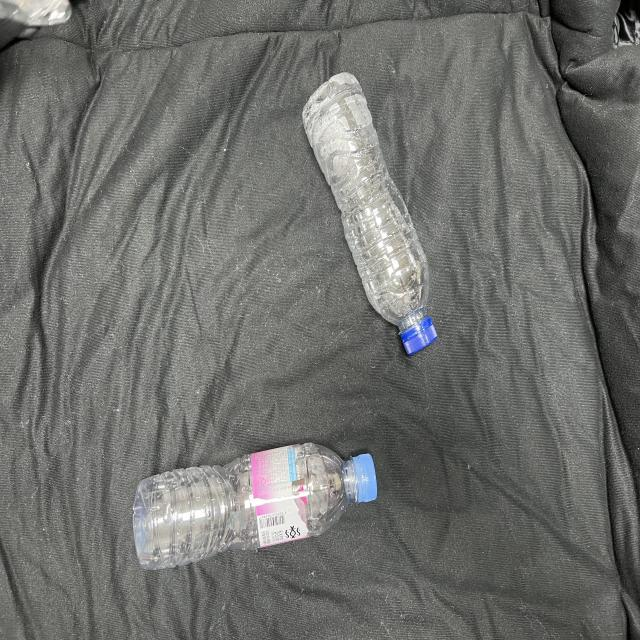good: (284, 54, 459, 376), (128, 427, 392, 586)
